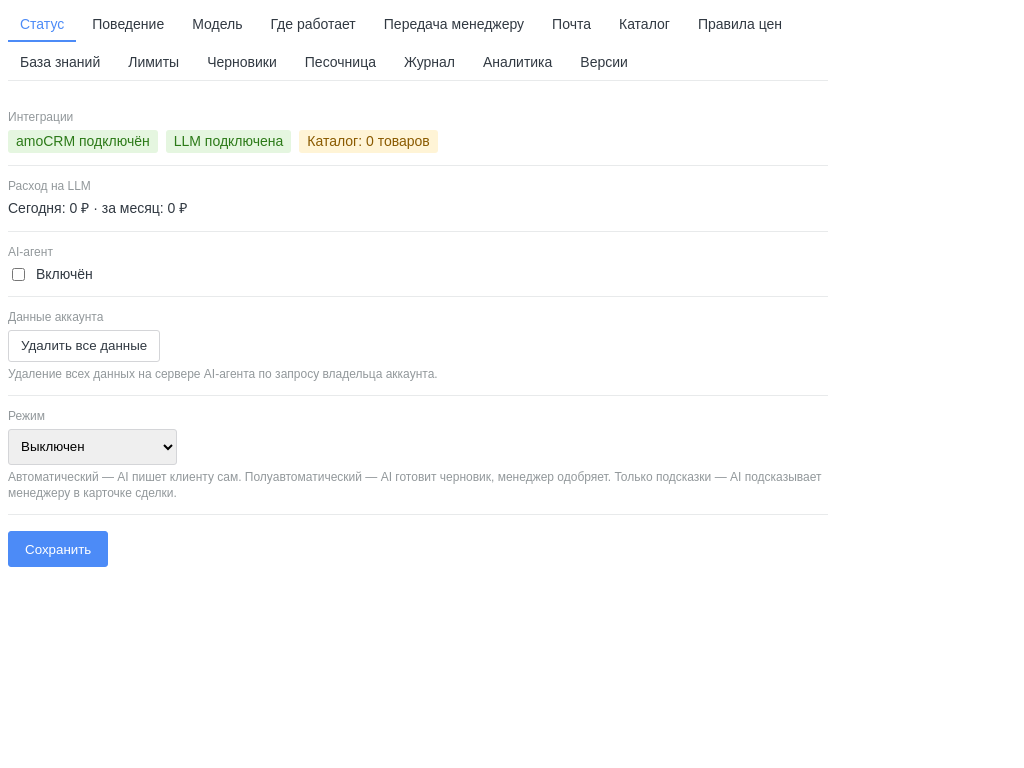
Scenario: вкладка «Почта» › пресет, пароль, сохранение и проверка подключения
The width and height of the screenshot is (1024, 768).
Later steps or results of the test are not shown.
Click the button "Почта": (572,25) [540,8,603,42]
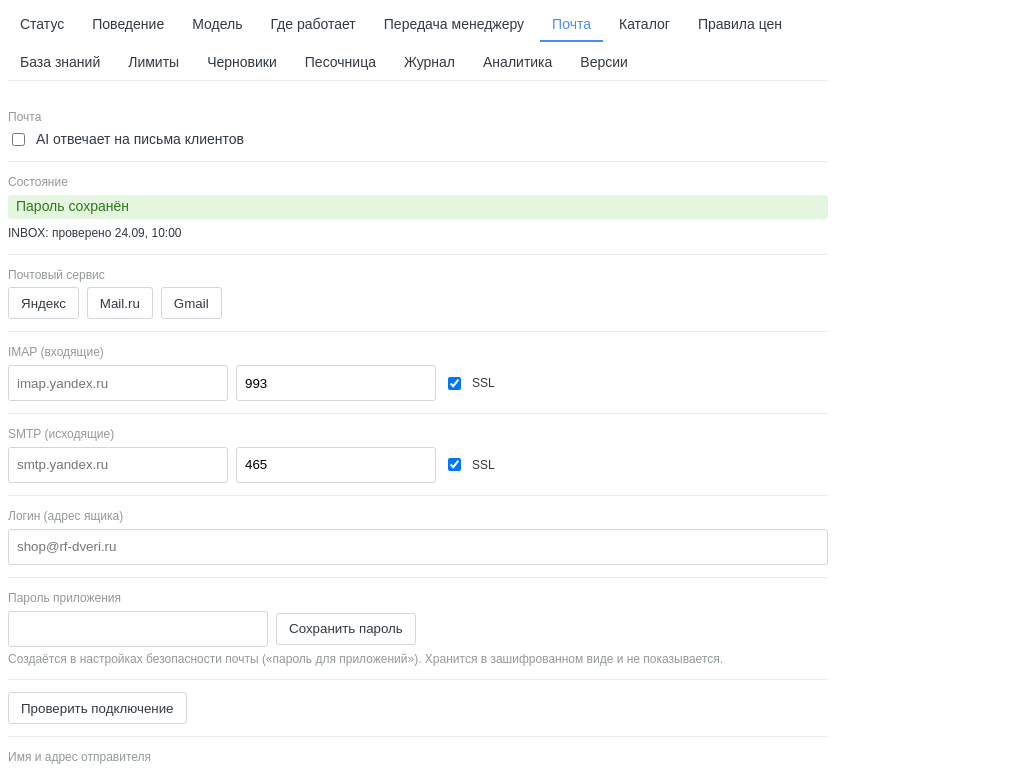
Check: the text "Пароль сохранён" is shown, box [8,195,828,219]
